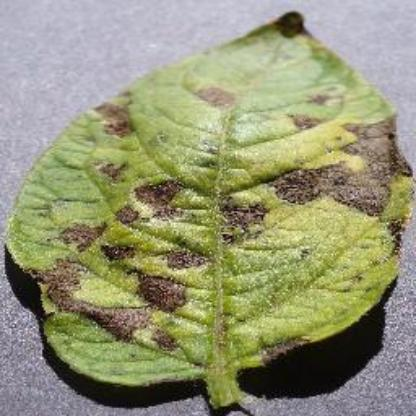Early-Blight: (3, 7, 415, 413)
